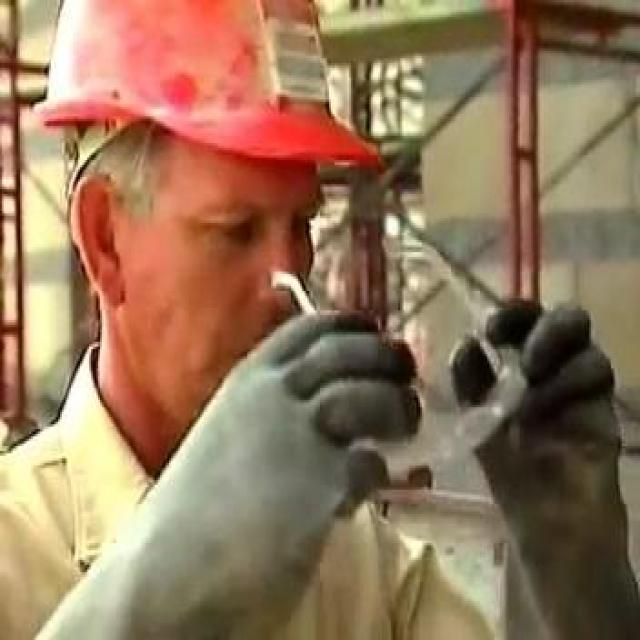Safety-Helmet: (27, 5, 398, 199)
